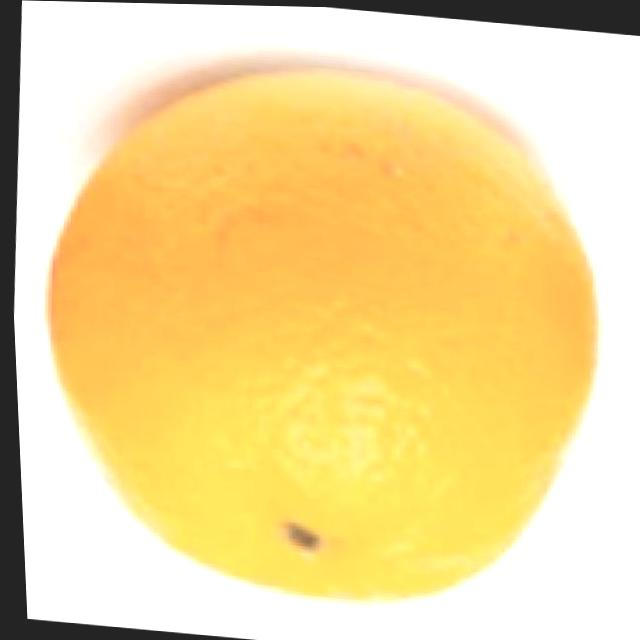Orange: (14, 43, 625, 627)
